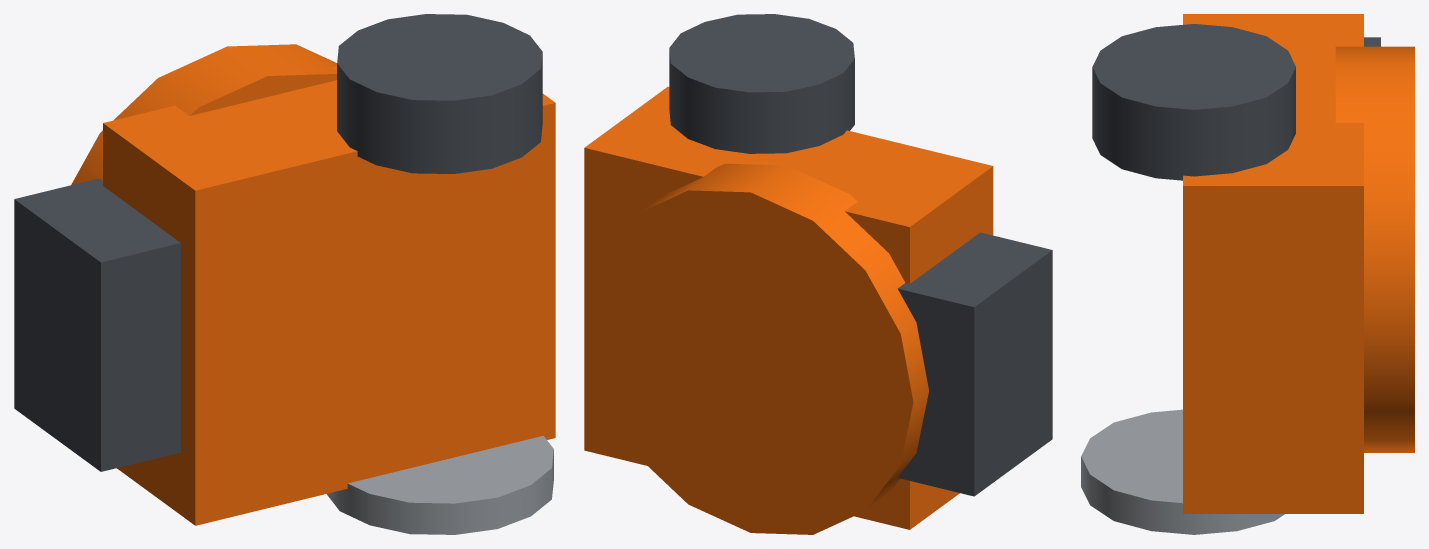
Rendered from arm_turret.obj.
3 renders of one model, left to right at view 1: azimuth 30°, elevation 25°; view 2: azimuth 150°, elevation 25°; view 3: azimuth 270°, elevation 25°, orthographic. The views are drawn at different scales.
Parts seen in each view (by area): view 1: robot_orange, machine_dark, steel_light; view 2: robot_orange, machine_dark; view 3: robot_orange, machine_dark, steel_light.
Boxes of the visible parts, x1,y1,x2,y2 form: robot_orange: [71, 44, 555, 525]; machine_dark: [14, 14, 542, 471]; steel_light: [327, 435, 553, 534]; robot_orange: [584, 86, 993, 534]; machine_dark: [669, 14, 1052, 496]; robot_orange: [1183, 14, 1414, 513]; machine_dark: [1092, 24, 1380, 180]; steel_light: [1081, 409, 1284, 534].
Size of the model in its own units: 0.44 by 0.41 by 0.295.
